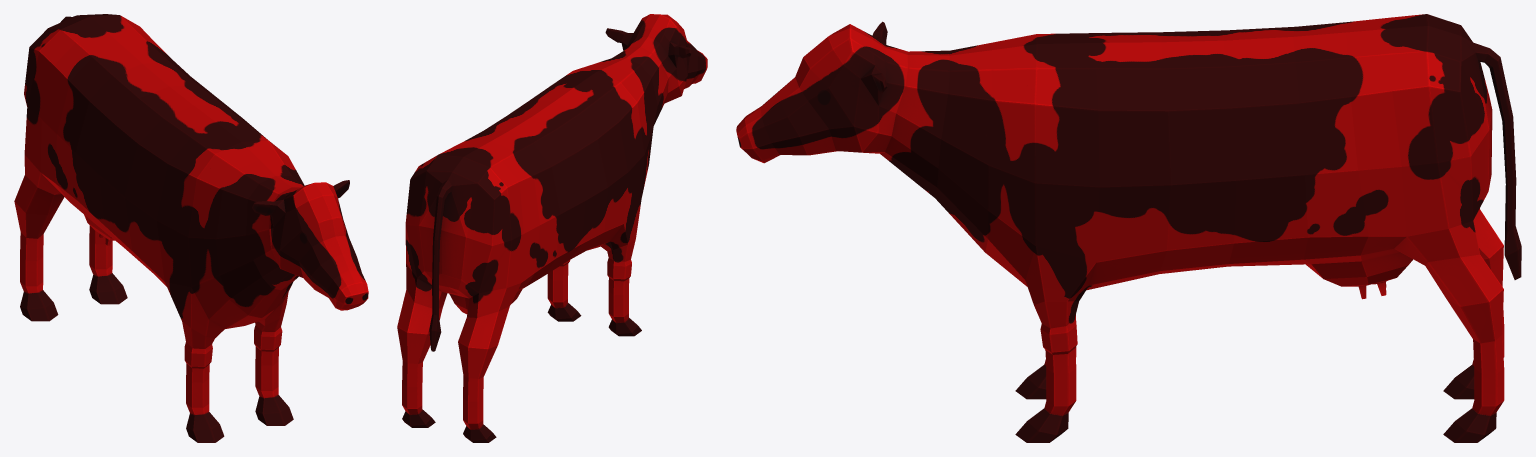
File: Cow_unhealthy_inestrus.gltf
3 views of the same model, side by side, from view 1: azimuth 30°, elevation 25°; view 2: azimuth 150°, elevation 25°; view 3: azimuth 270°, elevation 25° (orthographic). The views are drawn at different scales.
Parts seen in each view (by area): view 1: Cow_mesh; view 2: Cow_mesh; view 3: Cow_mesh.
Part boxes in pixels (<box>): Cow_mesh: <box>14,14,368,442</box>; Cow_mesh: <box>397,14,707,442</box>; Cow_mesh: <box>736,14,1521,442</box>.
Size of the model in its own units: 3.36 by 7.42 by 13.65.
1 material, 1 textured.
